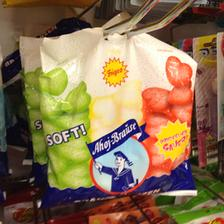Suessigkeit: (24, 31, 196, 202)
